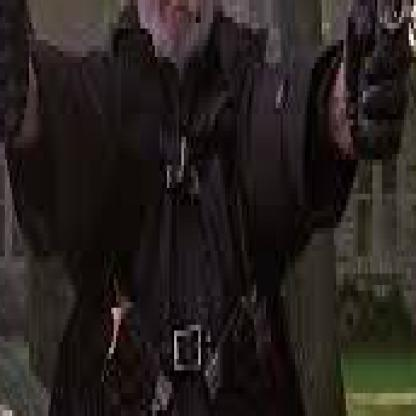gun: (0, 171, 414, 410)
